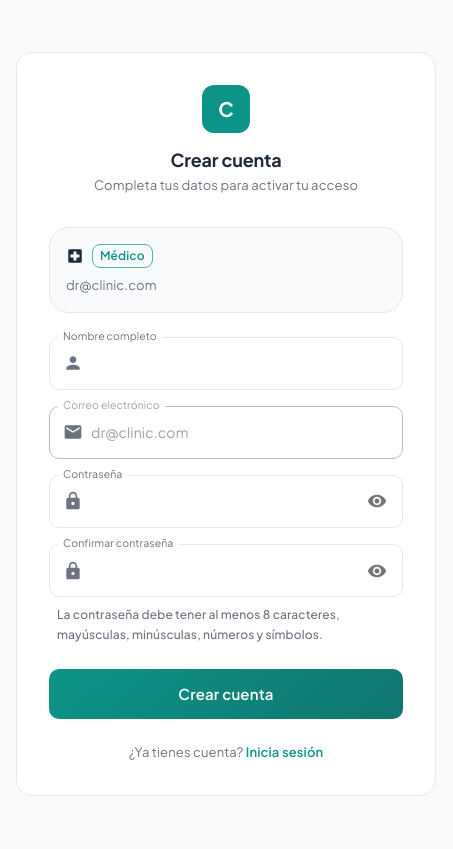
Test case: RegisterPage › shows generic error message when API error has no response data
expect the heading "Crear cuenta" is shown: met, box [170,148,282,171]
In the field labelled "Nombre completo": point(247, 363) [91,337,403,390], type "Ana Torres"
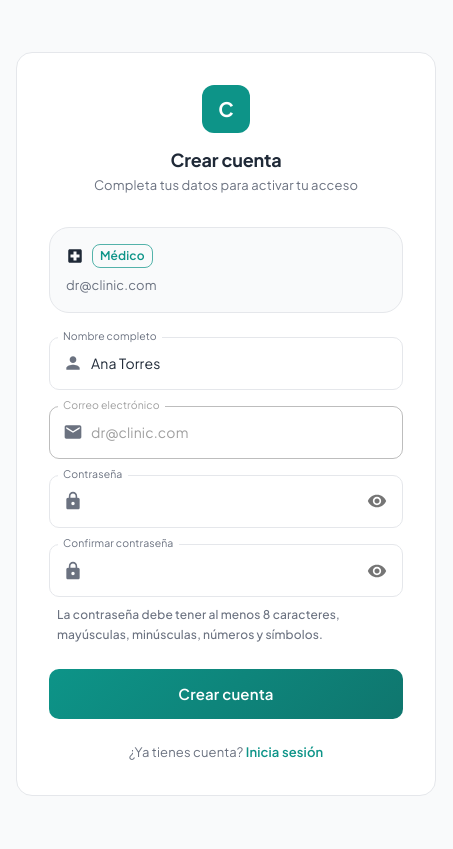
In the password field labelled "Contraseña": point(222, 501) [91,475,354,528], type "Str0ng!pass"
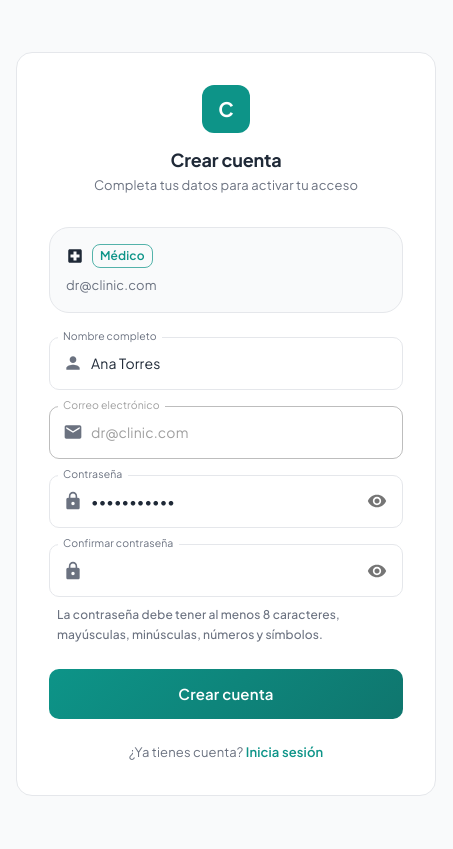
In the password field labelled "Confirmar contraseña": point(222, 571) [91,544,354,597], type "Str0ng!pass"
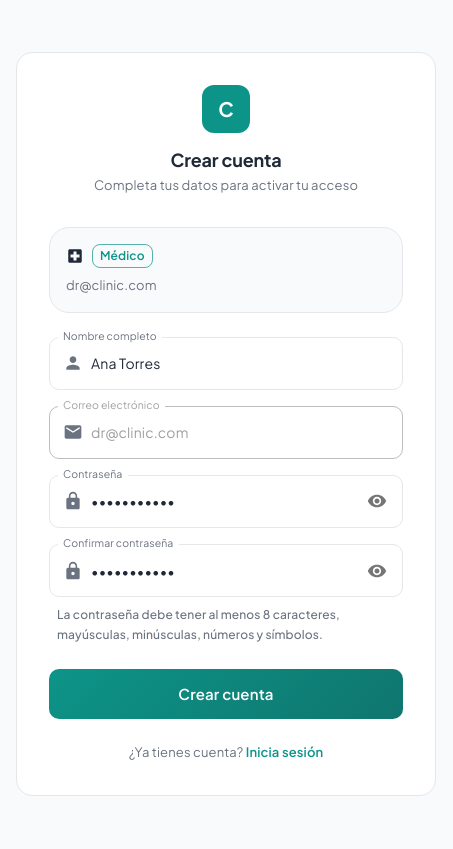
Click the button "Crear cuenta": point(226, 694) [49,669,403,719]
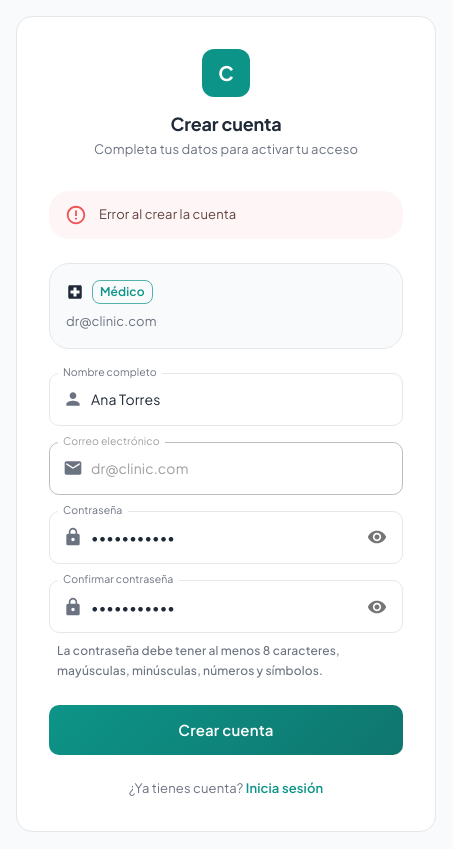
expect the text "Error al crear la cuenta" is shown: met, box [99,206,236,222]
